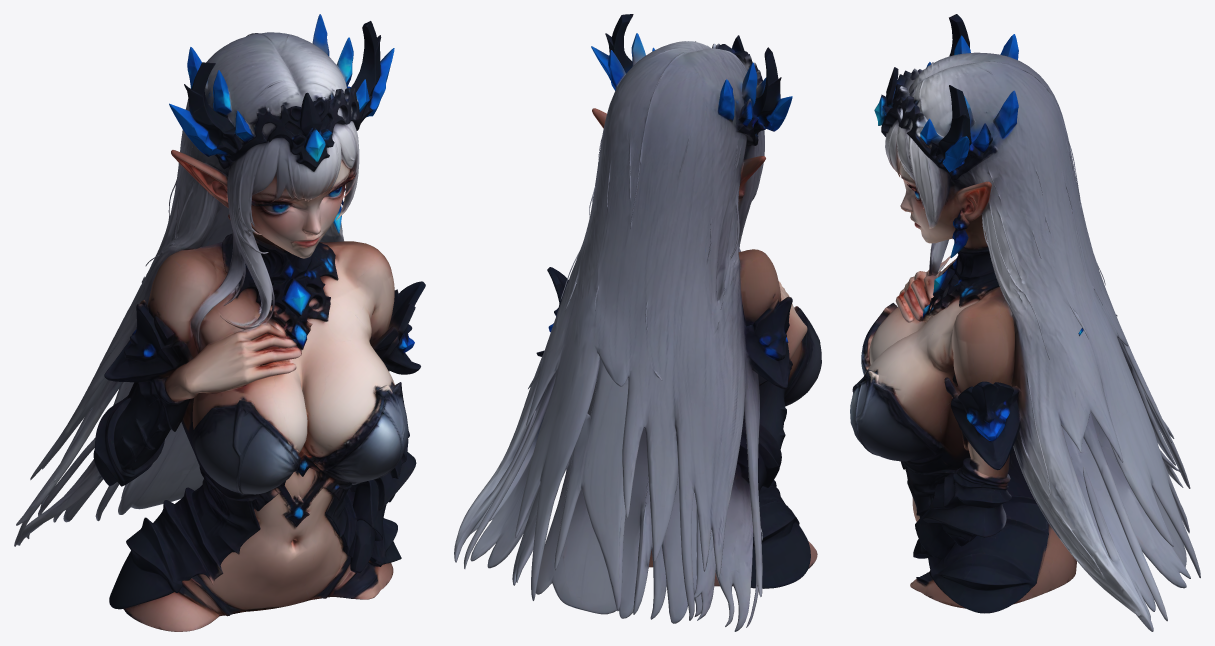
Rendered from 01a1a2e1-023a-7dbe-8dd9-3982d91493e5.glb.
The picture shows the model from 3 angles, left to right: view 1: azimuth 30°, elevation 25°; view 2: azimuth 150°, elevation 25°; view 3: azimuth 270°, elevation 25°; orthographic projection. The views are drawn at different scales.
Parts seen in each view (by area): view 1: node_0; view 2: node_0; view 3: node_0.
Part boxes in pixels (x1,y1,x2,y2): node_0: (14, 14, 425, 631); node_0: (454, 14, 821, 631); node_0: (850, 14, 1200, 631).
Bounding box in the file's own units: 0.6157 × 0.9622 × 0.6003.
1 material, 1 textured.
